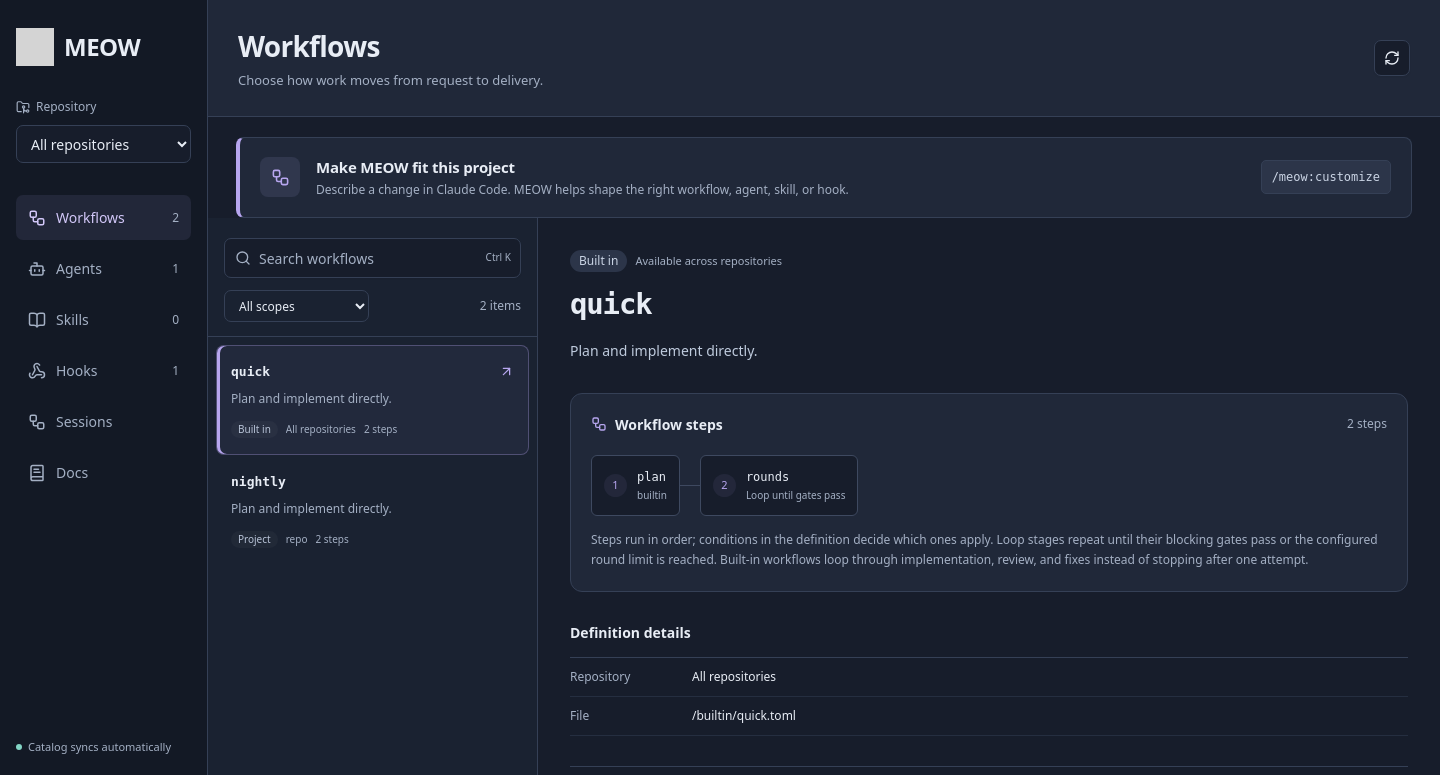
Test: returns from Sessions to the Agents catalog
This screenshot has width=1440, height=775.
Expected: the heading "quick" is shown, [570,287,652,321]
Click the button "Sessions" at (104, 422), box [16,399,191,444]
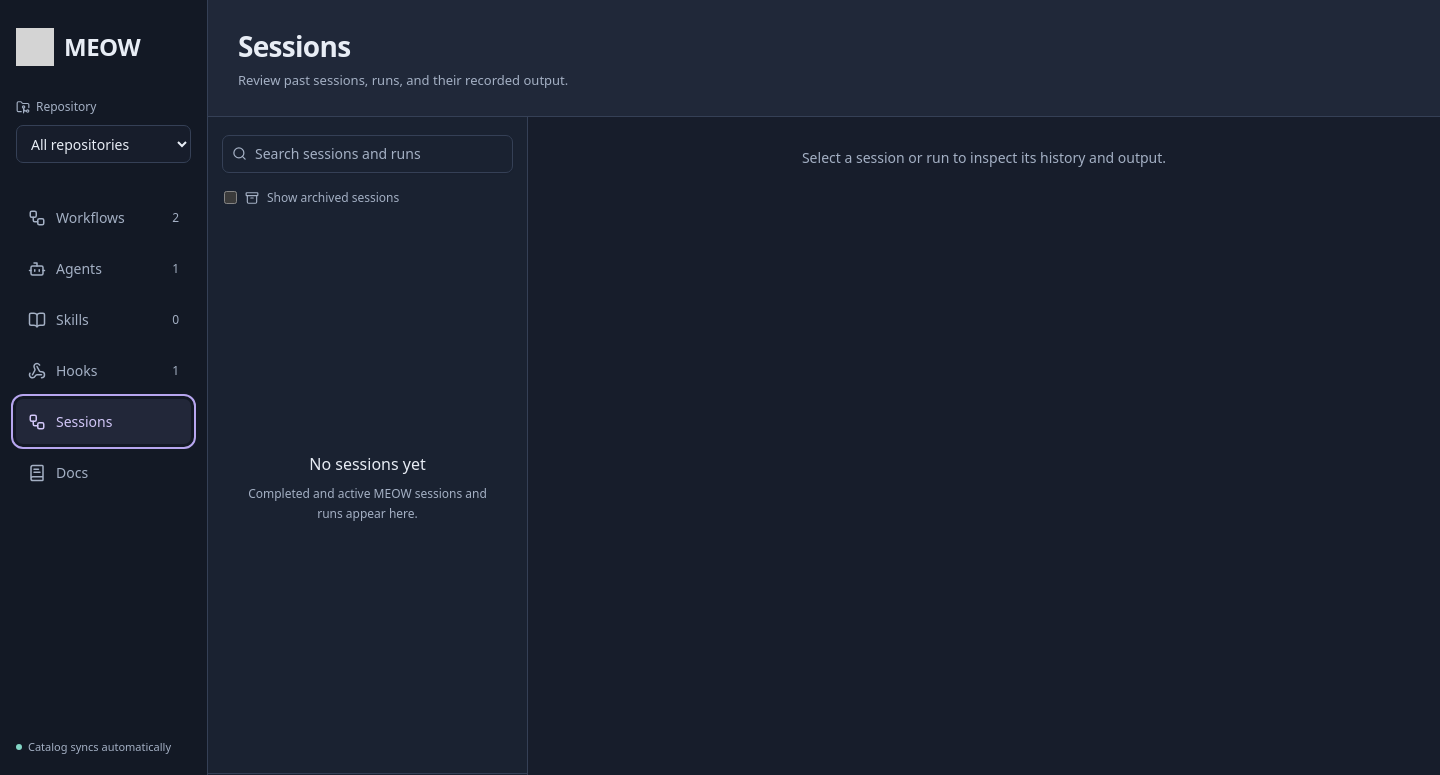
Now the heading "Sessions" is shown, box [238,27,350,65]
Click the button "Agents 1" at (104, 268), box [16,246,191,291]
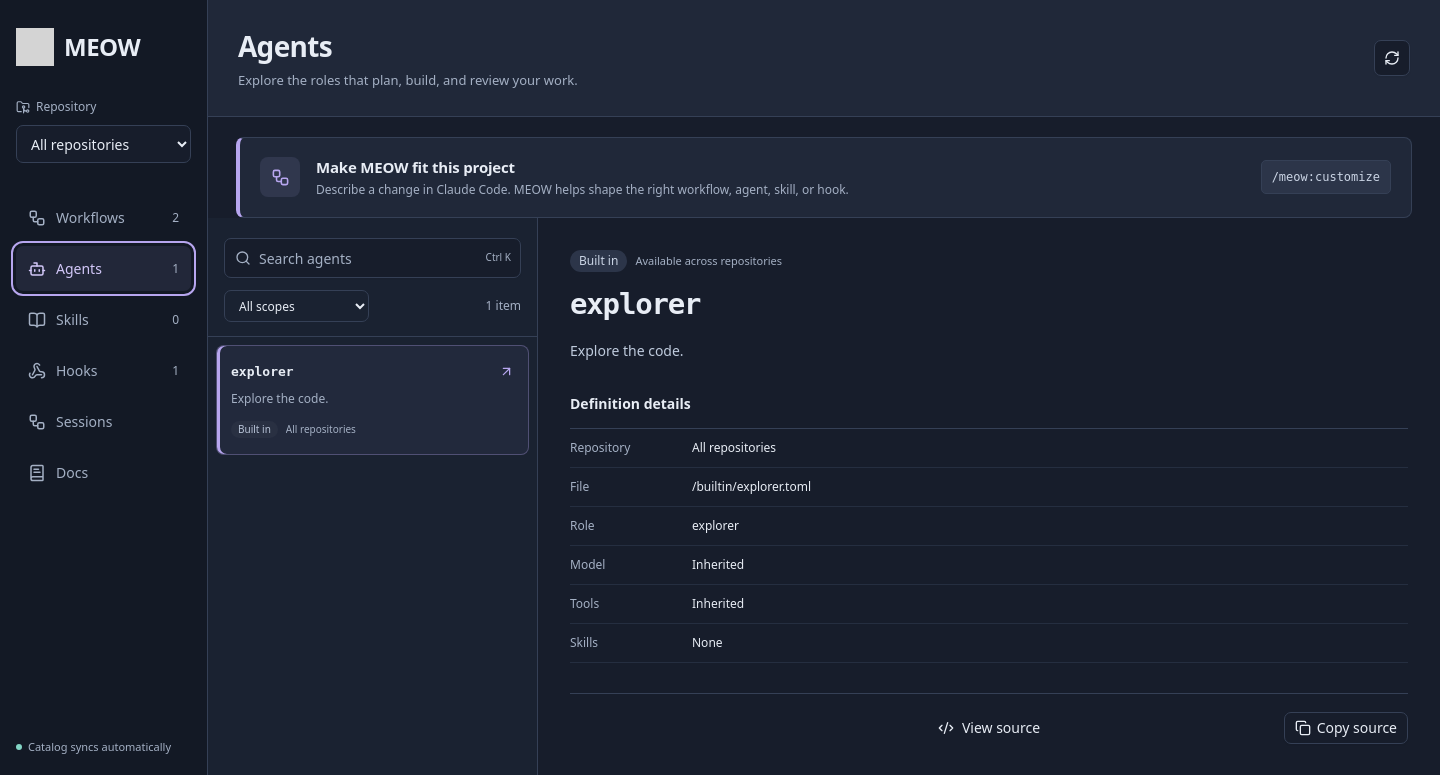
Now the heading "Agents" is shown, box [238,27,332,65]
Now the search field named "Search catalog" is shown, box [224,238,521,278]
